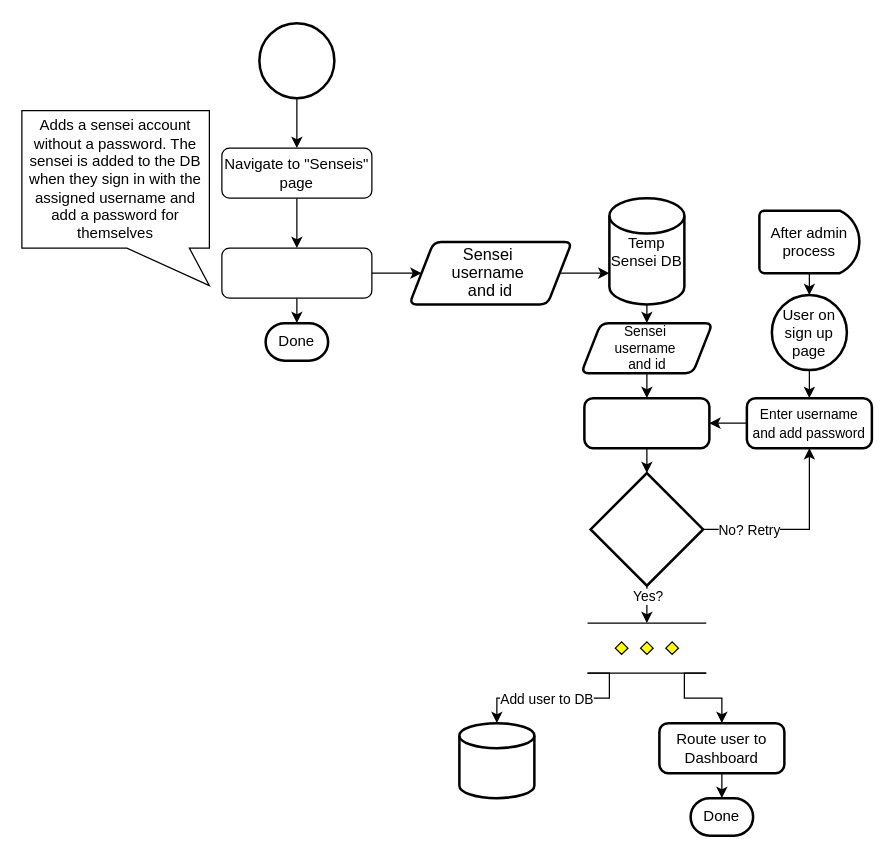
The diagram is 895 pixels wide and 858 high, and some of its shapes have lost their labels. Each missing label, with the centre of its shape:
"Click add Sensei button" belongs at point (296, 272).
"Sign in as admin" belongs at point (296, 60).
"User DB" belongs at point (496, 760).
"Usernames match?" belongs at point (646, 528).
"Verify usernames" belongs at point (646, 422).
